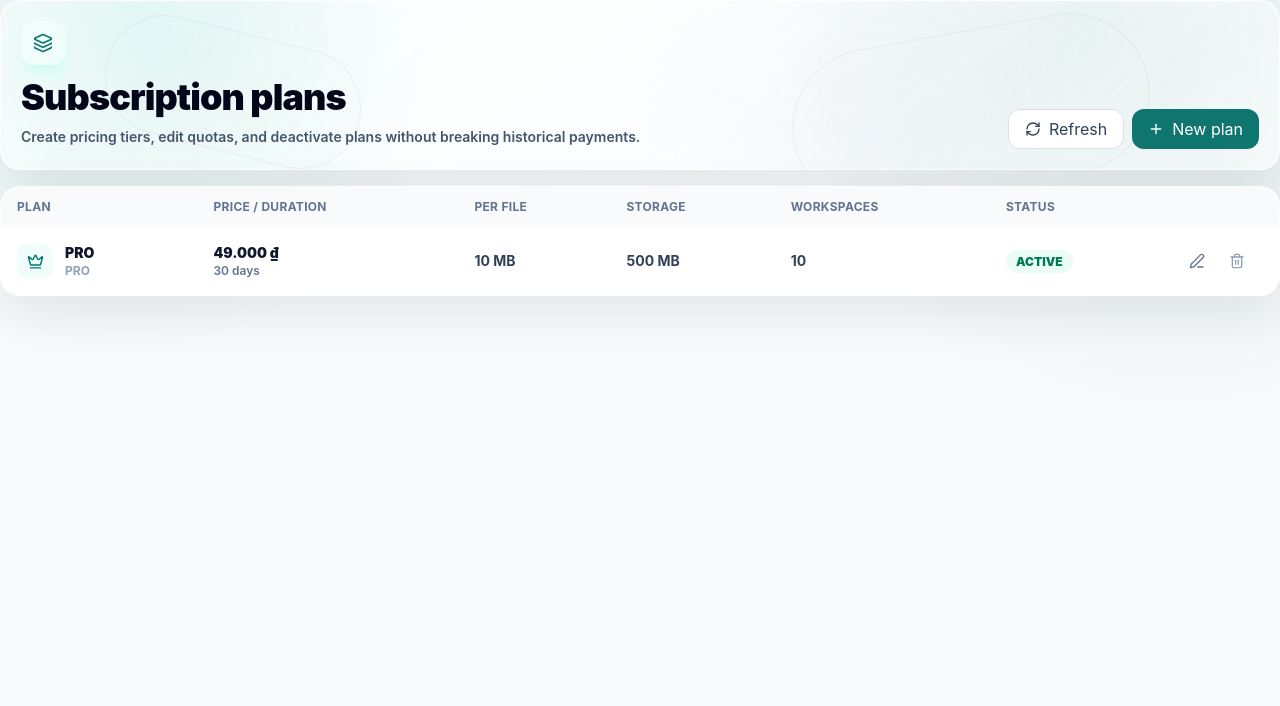
lists plans and opens the edit form
Click the button named "Edit PRO". click: click(1197, 261)
box: top-left (1179, 243), bottom-right (1215, 279)
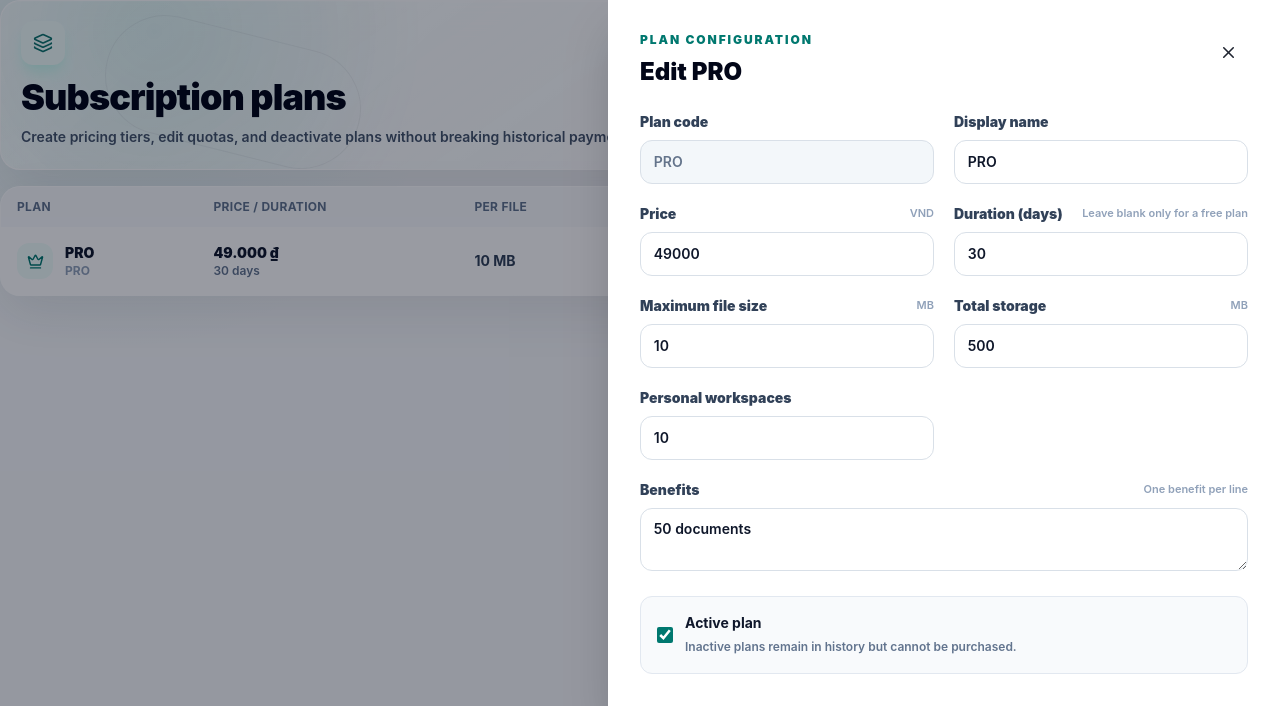
Expected: the heading "Edit PRO" is shown, top-left (640, 57), bottom-right (742, 86)
Expected: the number field showing "500" is shown, top-left (954, 324), bottom-right (1248, 368)
